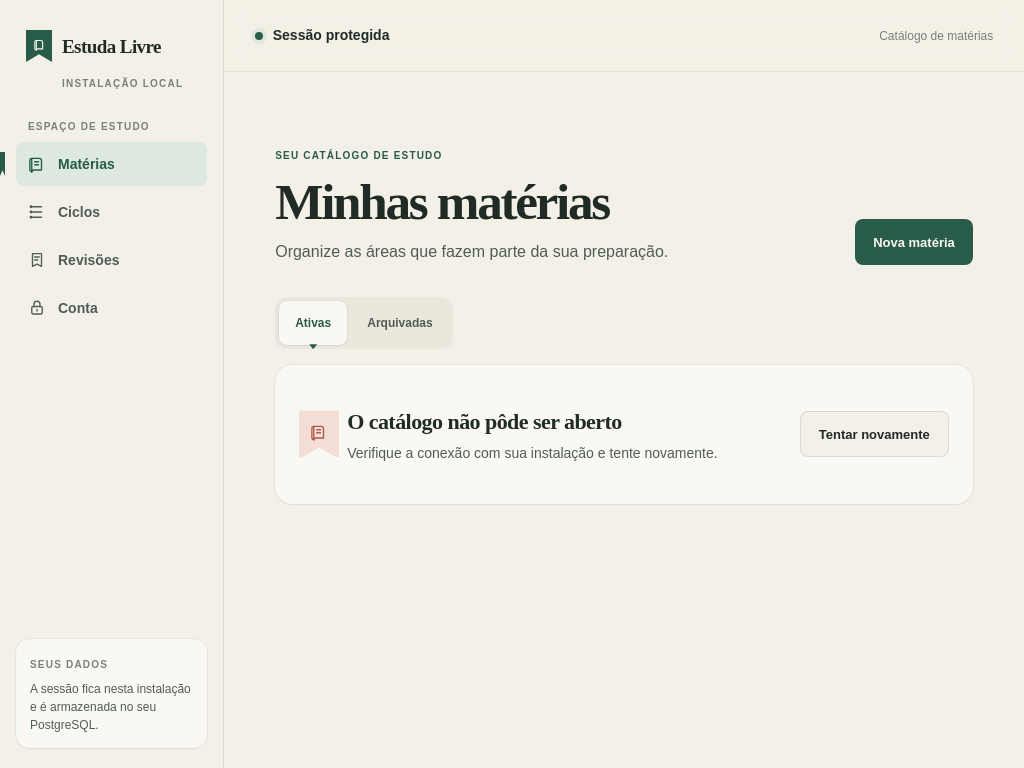
Test: authentication journey › recovers the subject catalog after a loading error
This screenshot has width=1024, height=768.
Check: the heading "O catálogo não pôde ser aberto" is shown, box x1=347 y1=409 x2=622 y2=434
What coordinates should you click on to do the following:
click the button "Tentar novamente"
I would click on:
 (874, 434)
Its box is x1=800 y1=411 x2=949 y2=457.
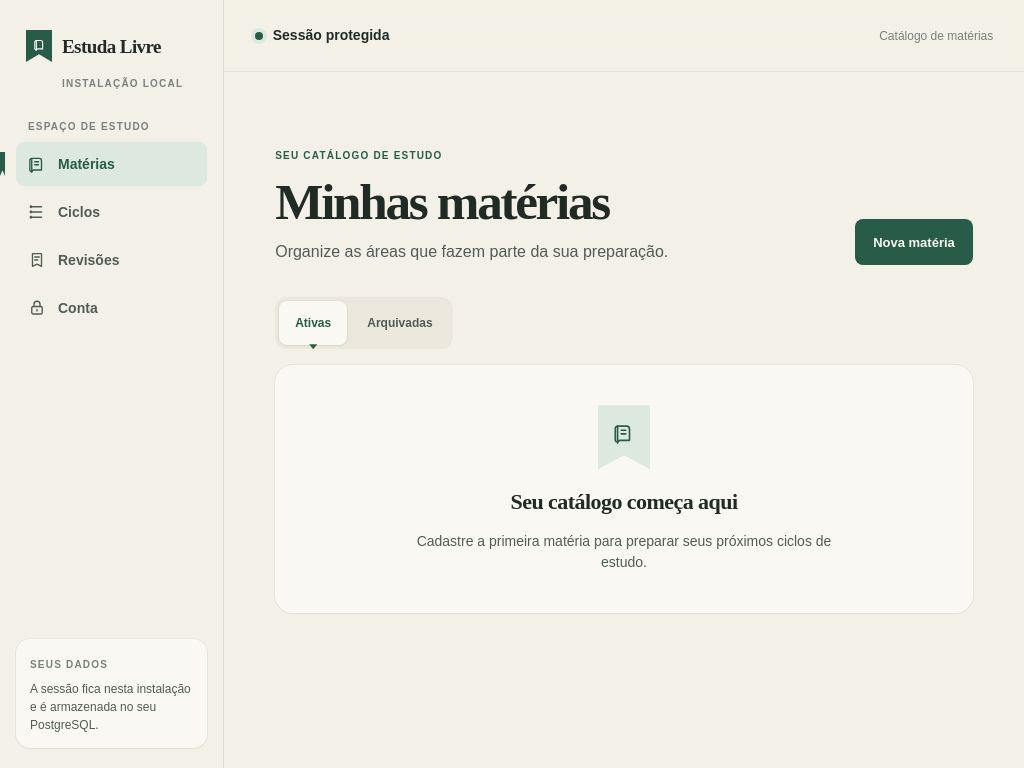
Check: the heading "Seu catálogo começa aqui" is shown, box x1=510 y1=489 x2=738 y2=514
